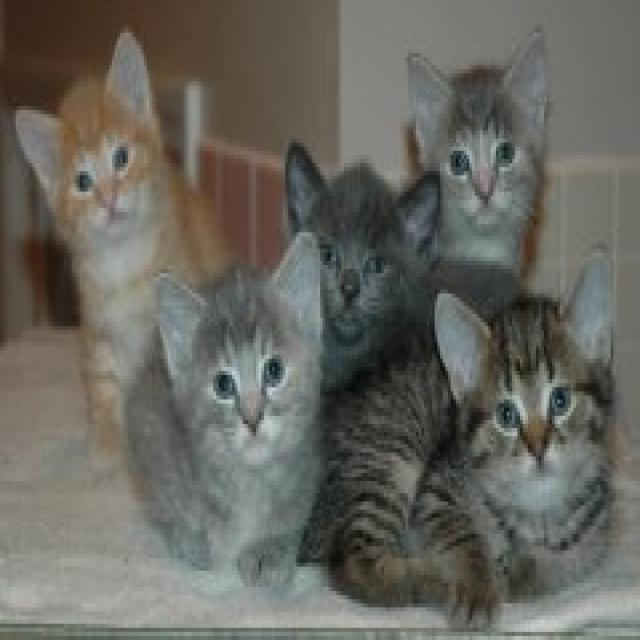Cats: (13, 24, 235, 469), (120, 228, 325, 591), (283, 134, 440, 392), (403, 21, 552, 278)
